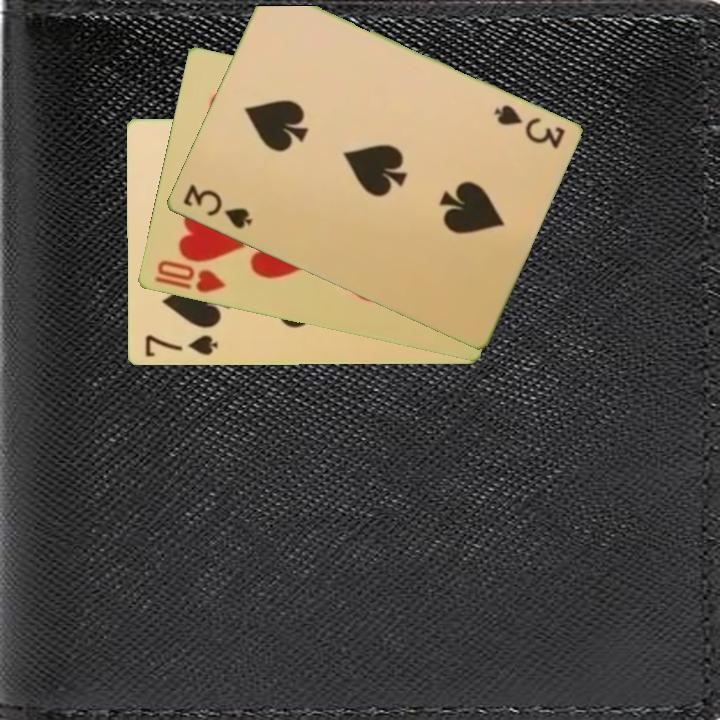10h: (153, 257, 228, 296)
3s: (489, 101, 567, 152), (179, 181, 255, 233)
7s: (141, 332, 220, 360)
